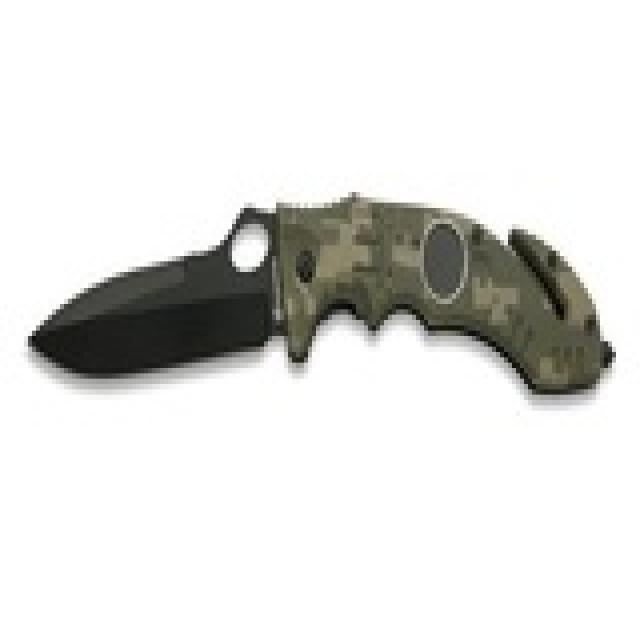Knife: (16, 174, 624, 442)
